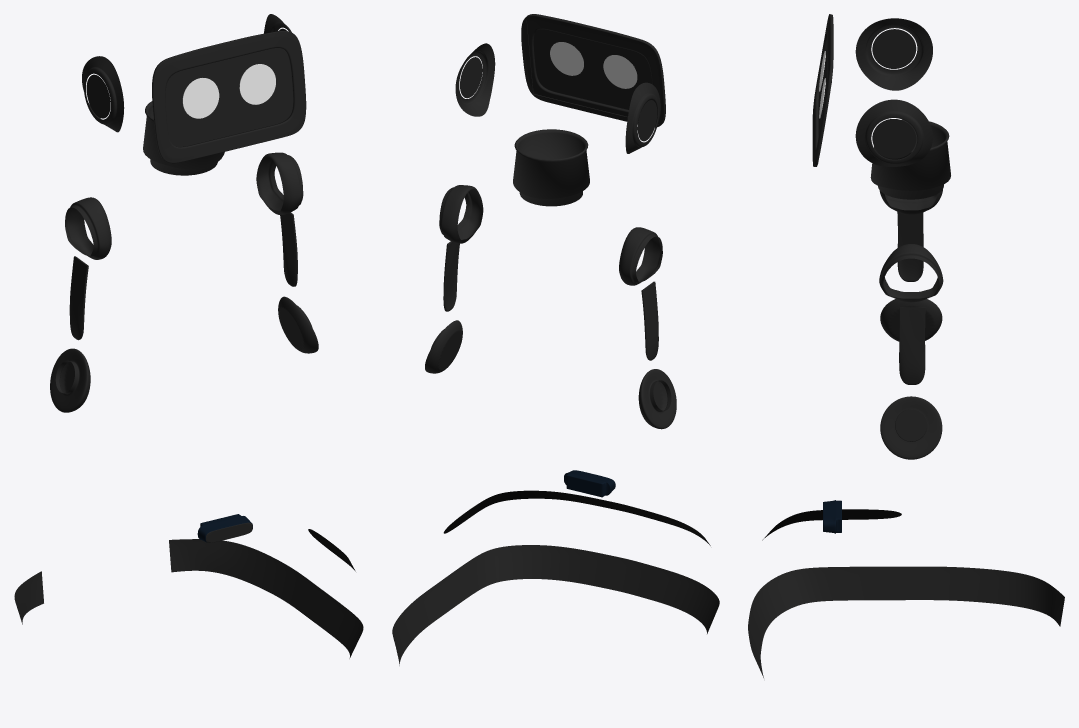
The model's file is default_black.gltf.
3 views of the same model, side by side, from view 1: azimuth 30°, elevation 25°; view 2: azimuth 150°, elevation 25°; view 3: azimuth 270°, elevation 25° (orthographic). The views are drawn at different scales.
Visible parts, largest first — view 1: AMR Casing.002, M03 10`` Display.001, Bazzel.002, Cylinder.002, ARM CASING - Sealing, ARM CASING - Sealing.001, ARM CASING - PAD.001, EAR Block.001, M03 Neck Block, ARM CASING - PAD, ARM CASING Bottom.001, Cube (+2 smaller); view 2: AMR Casing.002, M03 Neck Block, M03 10`` Display.001, Bazzel.002, EAR Block.001, AMR Casing, ARM CASING - Sealing, ARM CASING - Sealing.001, ARM CASING - PAD.001, Cylinder.002, Cylinder.004, ARM CASING - PAD (+3 smaller); view 3: AMR Casing.002, EAR Block.001, M03 Neck Block, ARM CASING - PAD, Cylinder.004, ARM CASING Bottom, ARM CASING - Sealing, Bazzel.002, ARM CASING Bottom.001, ARM CASING - PAD.001, AMR Casing, ARM CASING - Sealing.001 (+1 smaller).
Part boxes in pixels (x1,y1,x2,y2): AMR Casing.002: (14, 539, 363, 658); M03 10`` Display.001: (165, 48, 293, 146); Bazzel.002: (152, 30, 306, 163); Cylinder.002: (182, 64, 275, 118); ARM CASING - Sealing: (256, 152, 303, 214); ARM CASING - Sealing.001: (65, 197, 111, 259); ARM CASING - PAD.001: (50, 348, 90, 412); EAR Block.001: (82, 14, 291, 132); M03 Neck Block: (143, 101, 224, 175); ARM CASING - PAD: (278, 296, 318, 353); ARM CASING Bottom.001: (69, 256, 88, 340); Cube: (197, 514, 252, 542); AMR Casing.002: (392, 545, 719, 665); M03 Neck Block: (513, 129, 589, 206); M03 10`` Display.001: (526, 20, 658, 124); Bazzel.002: (521, 14, 665, 127); EAR Block.001: (455, 43, 660, 153); AMR Casing: (443, 490, 710, 545); ARM CASING - Sealing: (439, 185, 483, 243); ARM CASING - Sealing.001: (619, 227, 662, 285); ARM CASING - PAD.001: (638, 369, 676, 429); Cylinder.002: (550, 42, 637, 88); Cylinder.004: (460, 57, 657, 141); ARM CASING - PAD: (425, 320, 462, 373); AMR Casing.002: (748, 566, 1064, 677); EAR Block.001: (855, 18, 932, 166); M03 Neck Block: (870, 119, 950, 199); ARM CASING - PAD: (880, 396, 942, 459); Cylinder.004: (872, 29, 916, 158); ARM CASING Bottom: (899, 307, 925, 384); ARM CASING - Sealing: (879, 244, 943, 302); Bazzel.002: (812, 14, 833, 166); ARM CASING Bottom.001: (897, 211, 923, 281); ARM CASING - PAD.001: (880, 299, 942, 341); AMR Casing: (762, 509, 901, 540); ARM CASING - Sealing.001: (879, 189, 942, 214).
Size of the model in its own units: 0.459 by 1.08 by 0.5044.
